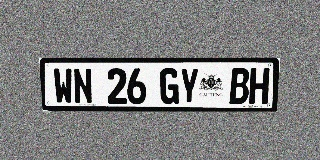2: (107, 68, 127, 104)
6: (127, 68, 146, 104)
B: (229, 68, 250, 104)
G: (160, 68, 179, 104)
H: (249, 68, 270, 104)
N: (73, 68, 93, 104)
W: (53, 68, 74, 104)
Y: (179, 68, 199, 104)
